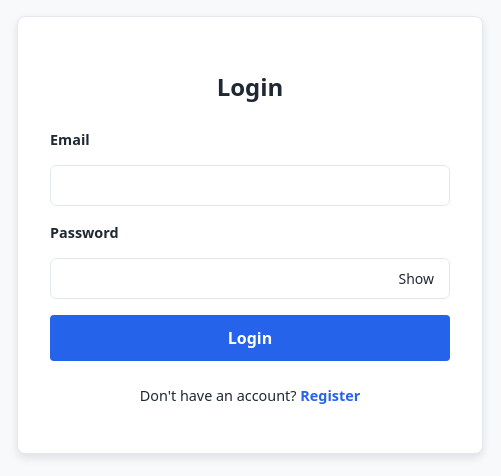
LoginPage Component › Password Visibility Tests (Şifre Görünürlük Testleri) › Şifre görünürlüğü butonunun metni değişmeli
The image size is (501, 476).
Click the button "Show" at (416, 278), box [390,265,442,292]
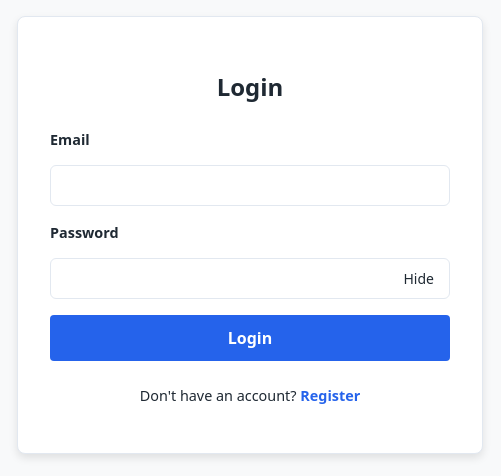
expect the button "Hide" is shown: met, box [396,265,442,292]
